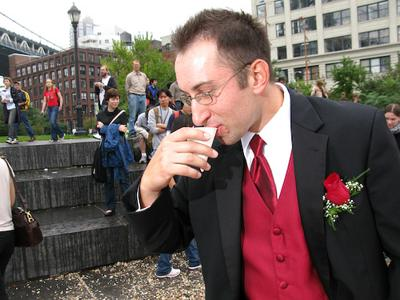person: (120, 6, 400, 300)
